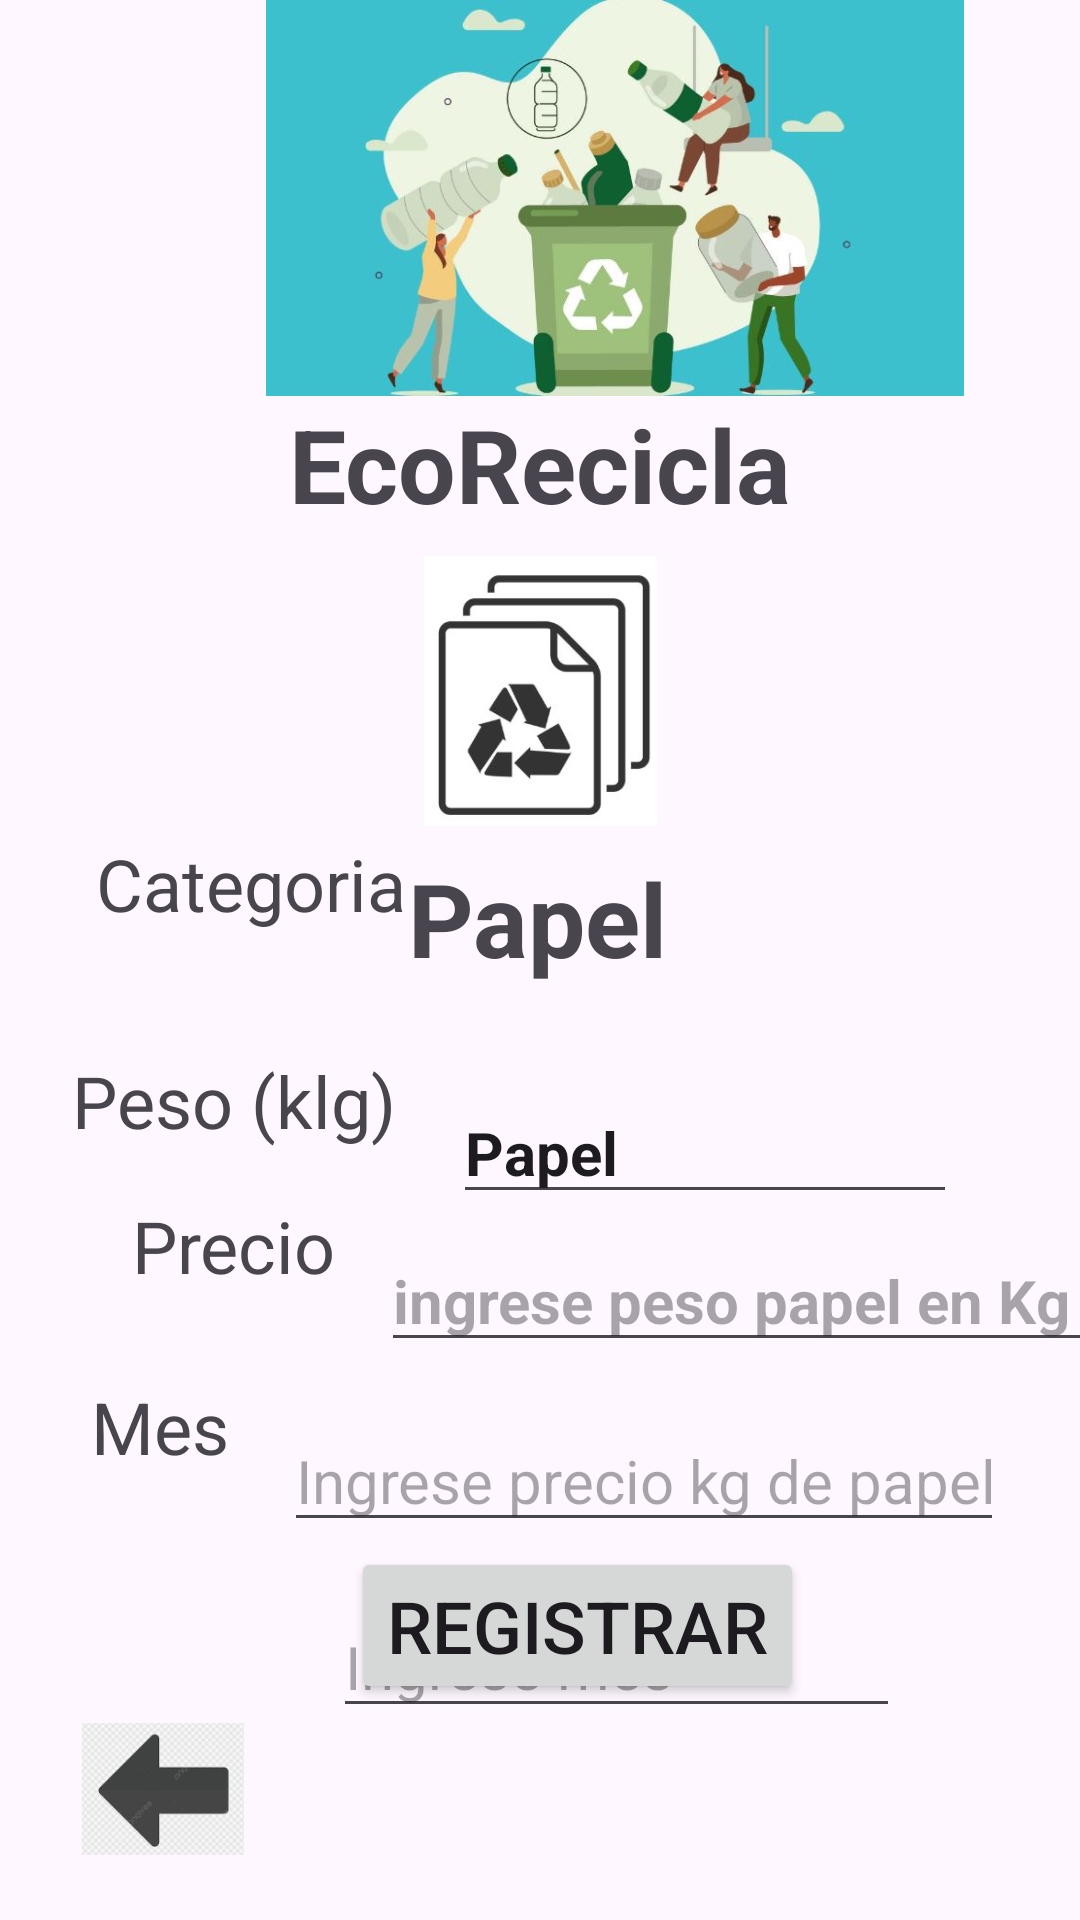

Named icons in this screenshot (1080x1920) and their centers, [x,y]:
atras: [163,1789]
